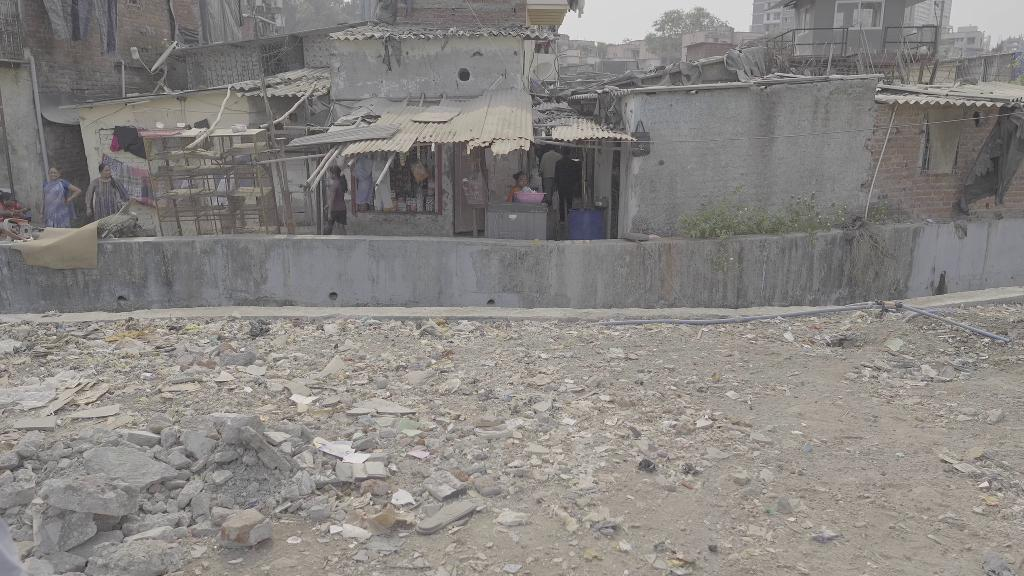garbage: (389, 415, 428, 439), (385, 487, 418, 509), (290, 391, 320, 407), (636, 455, 656, 477)
